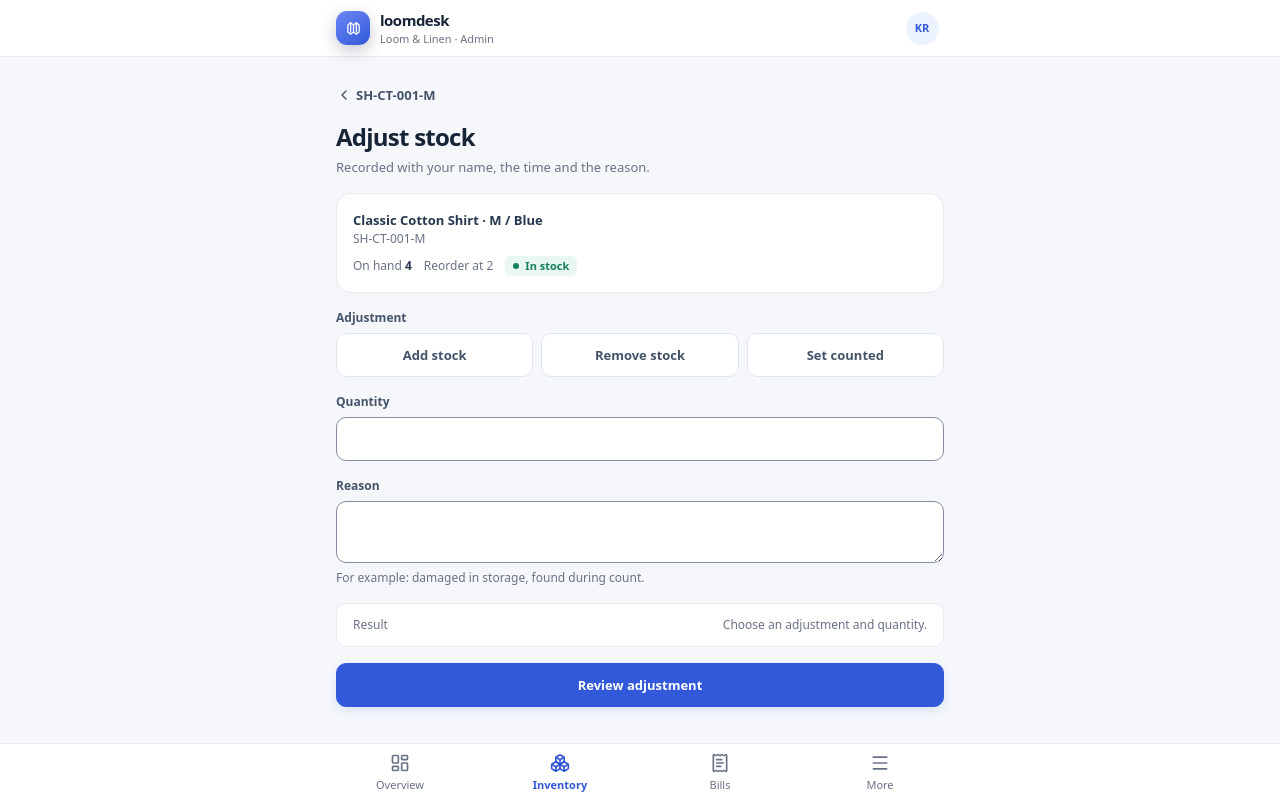
Test: mobile inventory › returns to the form when stock changed since the review, without leaving the page
Click the radio button labelled "Add stock". click: (435, 355)
box: [336, 333, 533, 377]
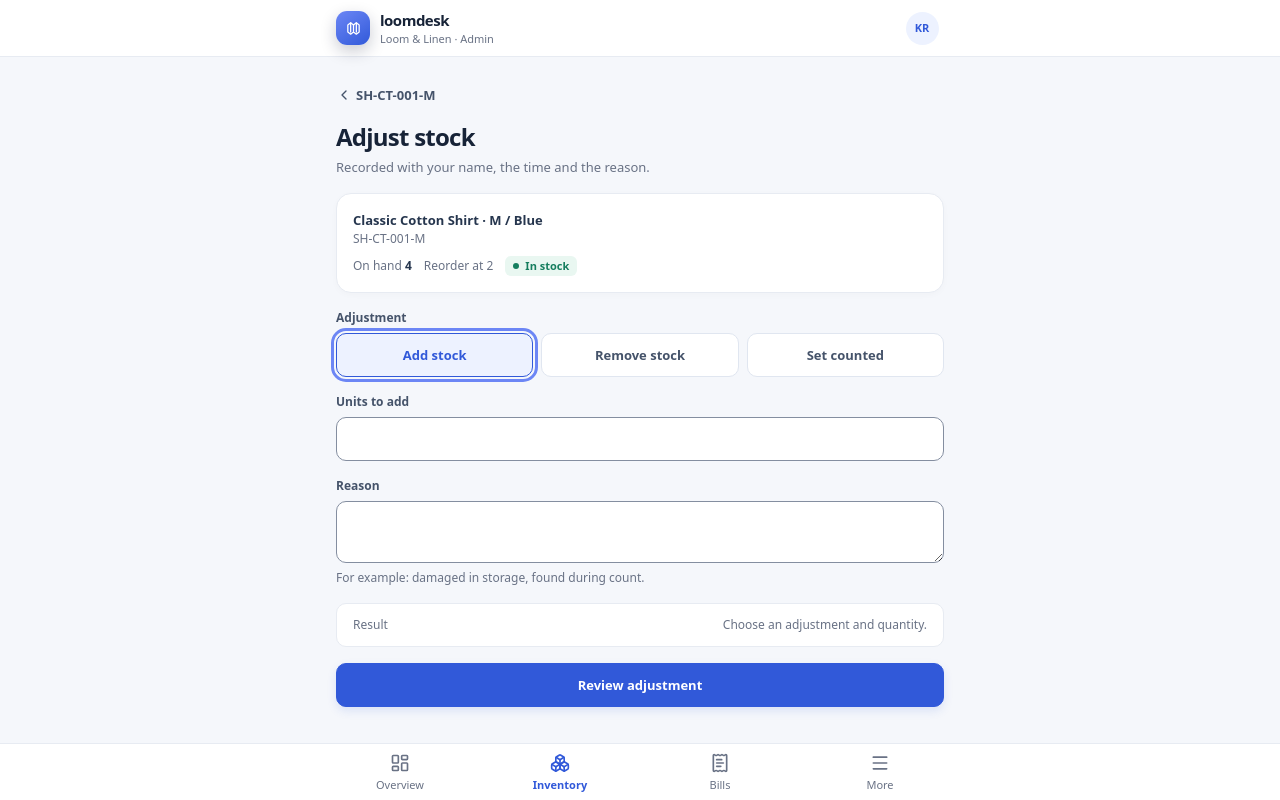
Type "1" into the field labelled "Units to add". click: (640, 439)
box: [337, 418, 943, 460]
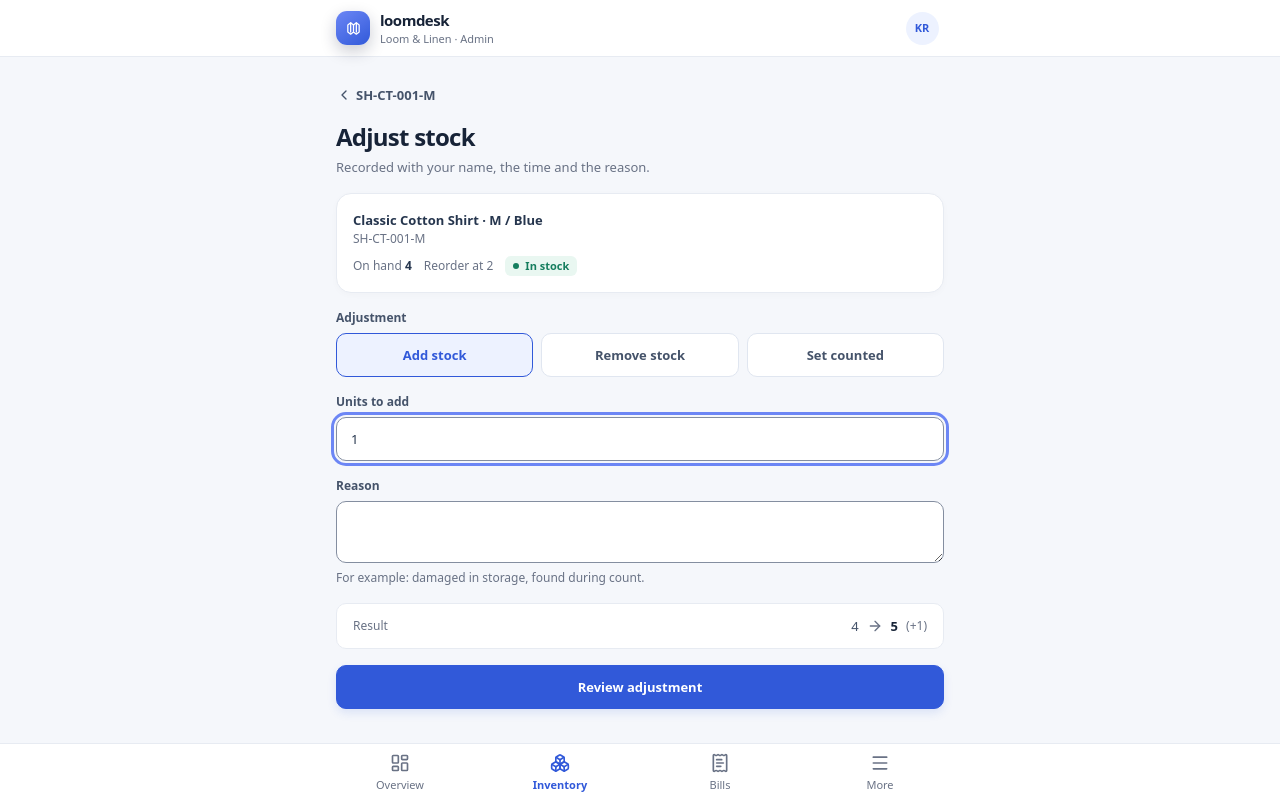
Type "Found in store room" into the text box labelled "Reason". click: (640, 532)
box: [336, 501, 944, 563]
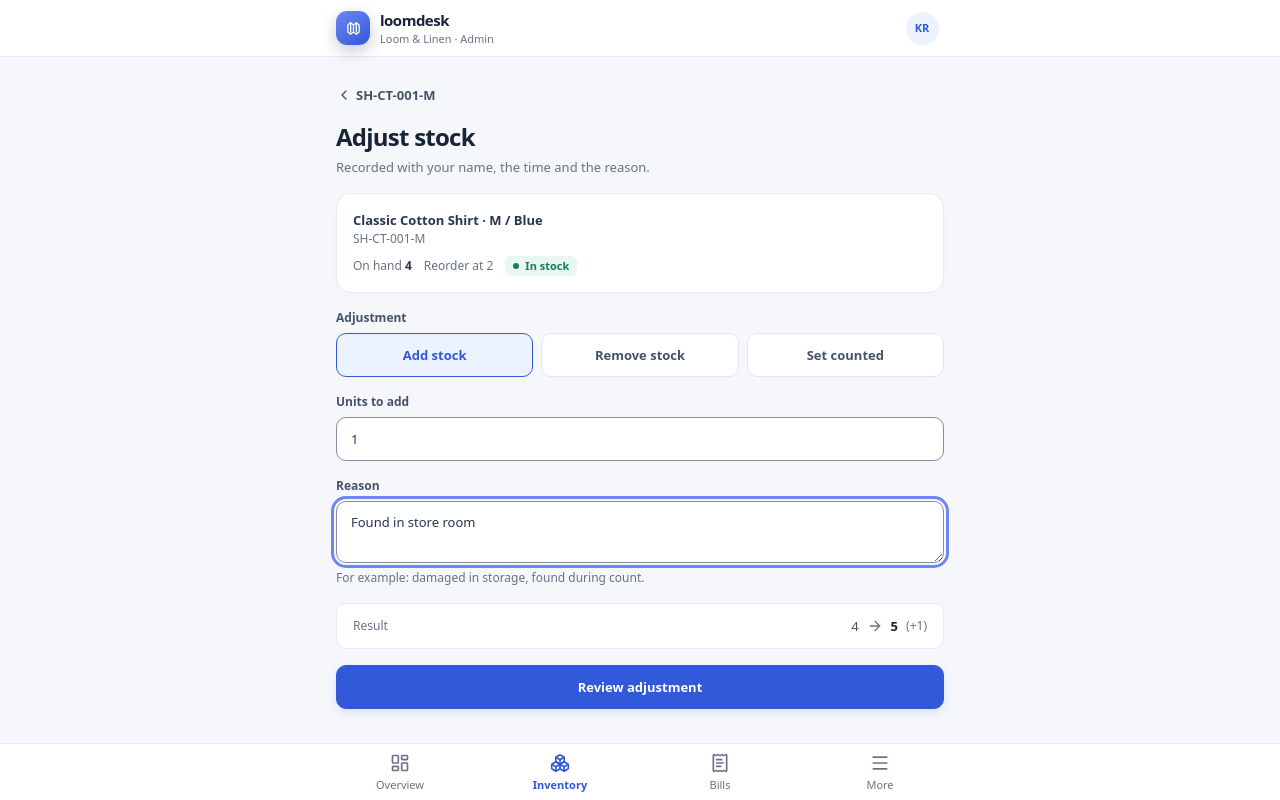
Click the button "Review adjustment". click: (640, 687)
box: [336, 665, 944, 709]
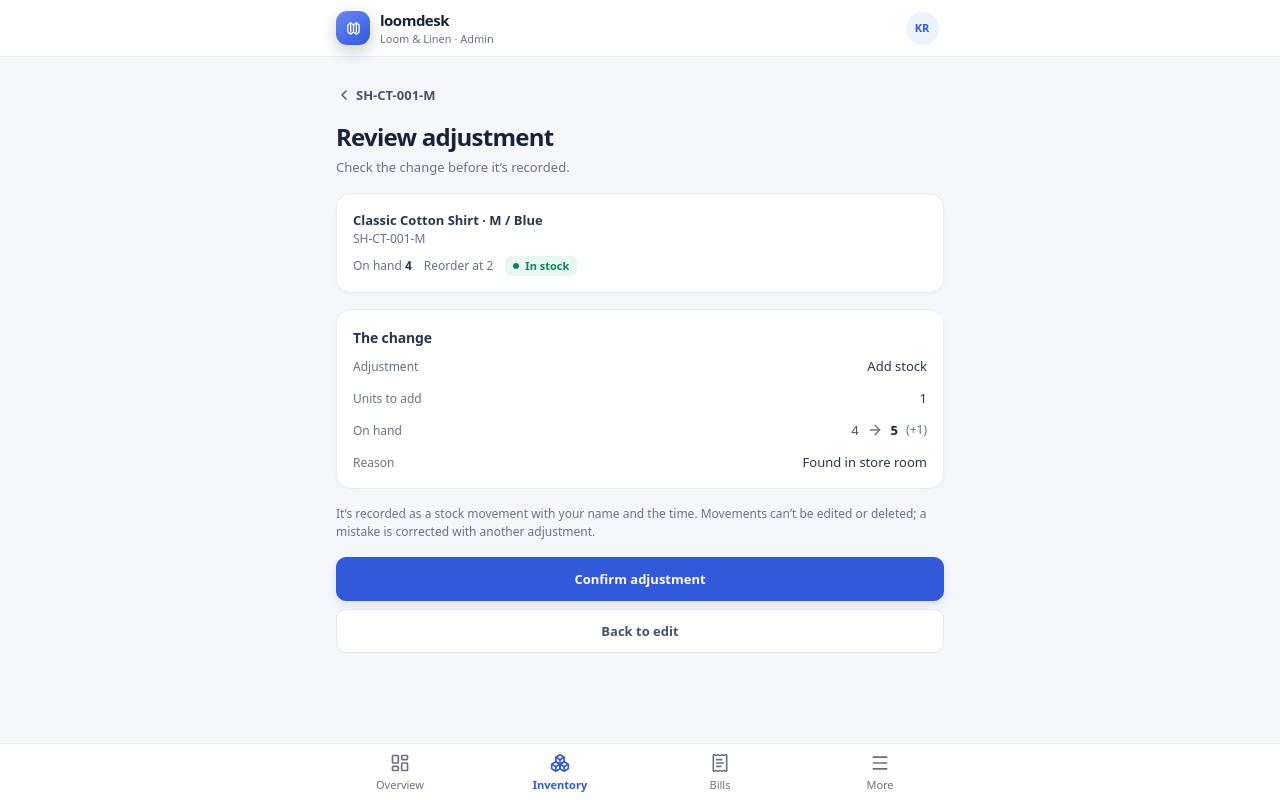
Click the button "Confirm adjustment". click: (640, 579)
box: [336, 557, 944, 601]
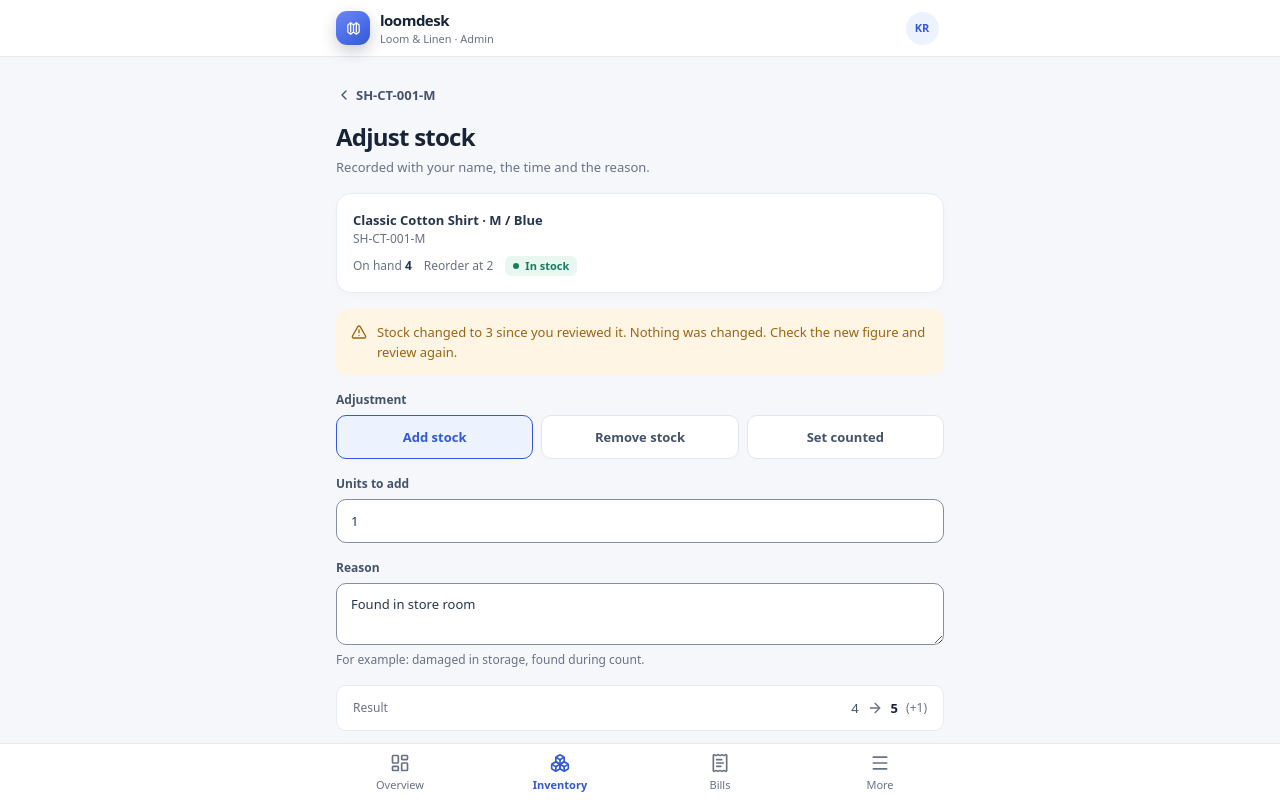
Expected: the text "Stock changed to 3 since you reviewed it. Nothing was changed." is shown, [377, 323, 925, 361]
Expected: the heading "Adjust stock" is shown, [336, 120, 475, 153]
